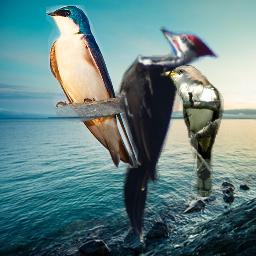Cuckoo: (160, 65, 224, 197)
Swallow: (46, 5, 138, 168)
Woodpecker: (77, 26, 220, 238)
